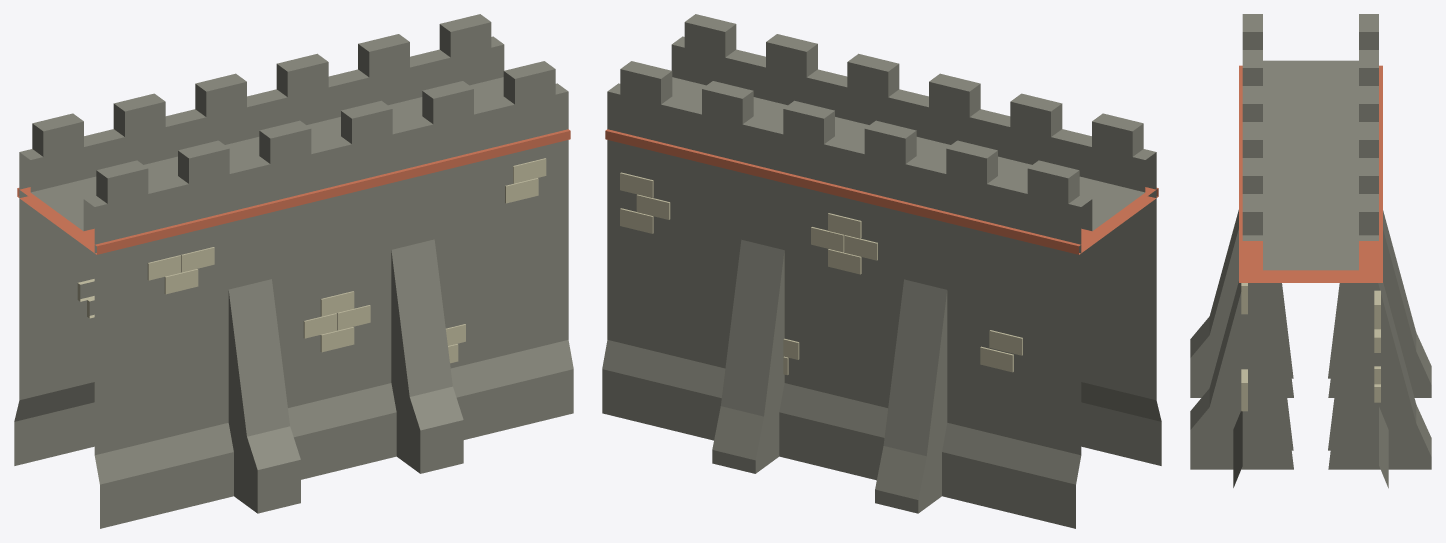
Rendered from Wall_2.fbx.
3 views of the same model, side by side, from view 1: azimuth 30°, elevation 25°; view 2: azimuth 150°, elevation 25°; view 3: azimuth 270°, elevation 25° (orthographic). The views are drawn at different scales.
Parts seen in each view (by area): view 1: Wall_2; view 2: Wall_2; view 3: Wall_2.
Boxes of the visible parts, <box> form: Wall_2: <box>14,14,573,528</box>; Wall_2: <box>602,14,1161,528</box>; Wall_2: <box>1190,14,1431,488</box>.
Bounding box in the file's own units: 233 × 161 × 113.
1 material, 1 textured.
